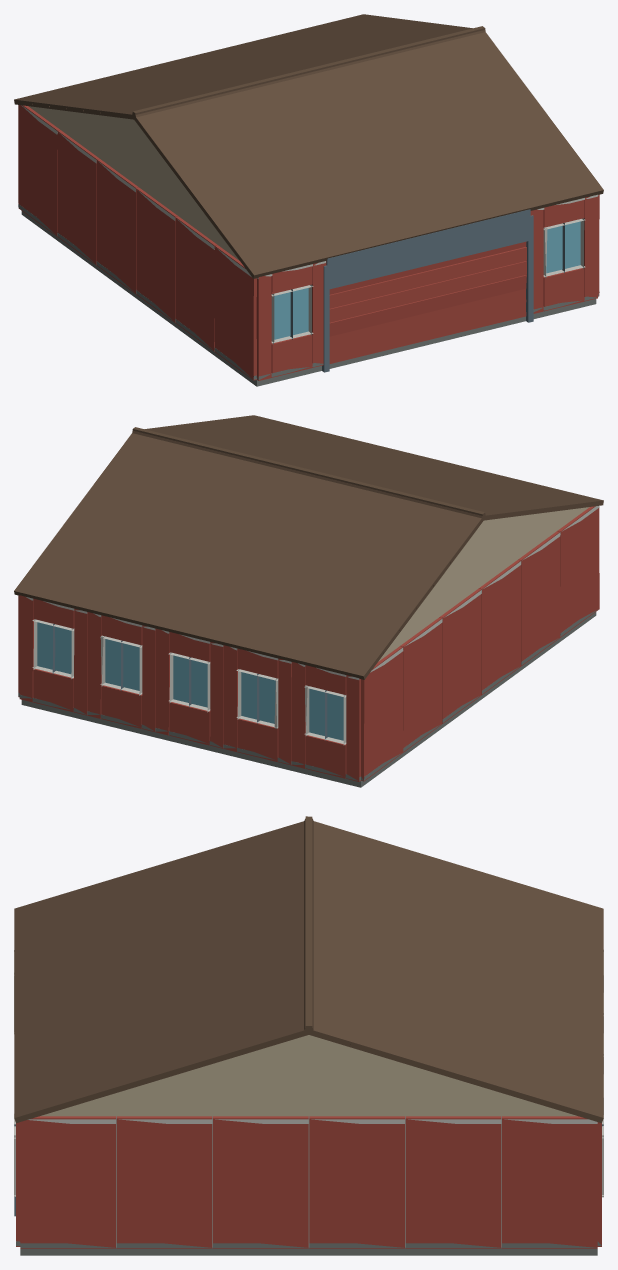
Rendered from architecture-barn.lod2.glb.
The picture shows the model from 3 angles, top to bottom: view 1: azimuth 30°, elevation 25°; view 2: azimuth 150°, elevation 25°; view 3: azimuth 270°, elevation 25°; orthographic projection. The views are drawn at different scales.
Parts seen in each view (by area): view 1: architecture-barn__body, architecture-barn__loading_door; view 2: architecture-barn__body; view 3: architecture-barn__body.
Part boxes in pixels (box(x1,y1,x2,y2)): architecture-barn__body: box(14, 14, 603, 386); architecture-barn__loading_door: box(329, 241, 526, 363); architecture-barn__body: box(14, 415, 603, 787); architecture-barn__body: box(14, 816, 603, 1255).
Size of the model in its own units: 10.33 by 5.33 by 12.25.
